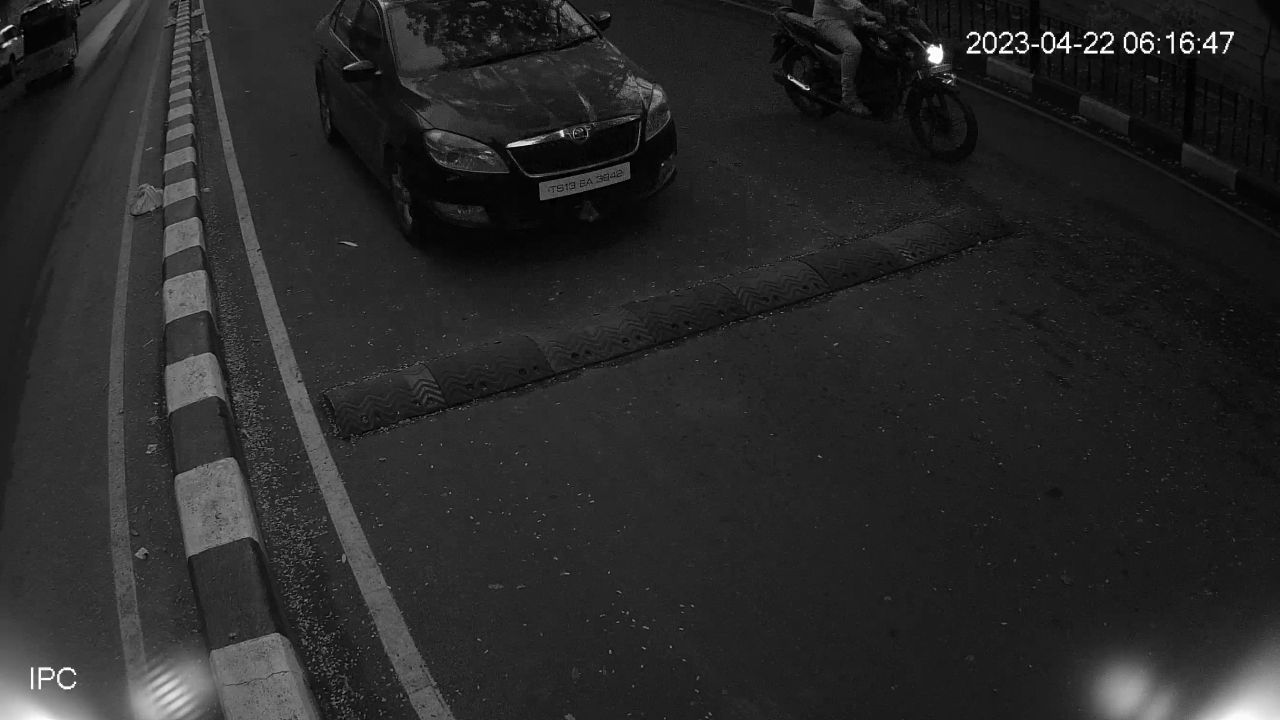license_plate: (535, 150, 637, 204)
